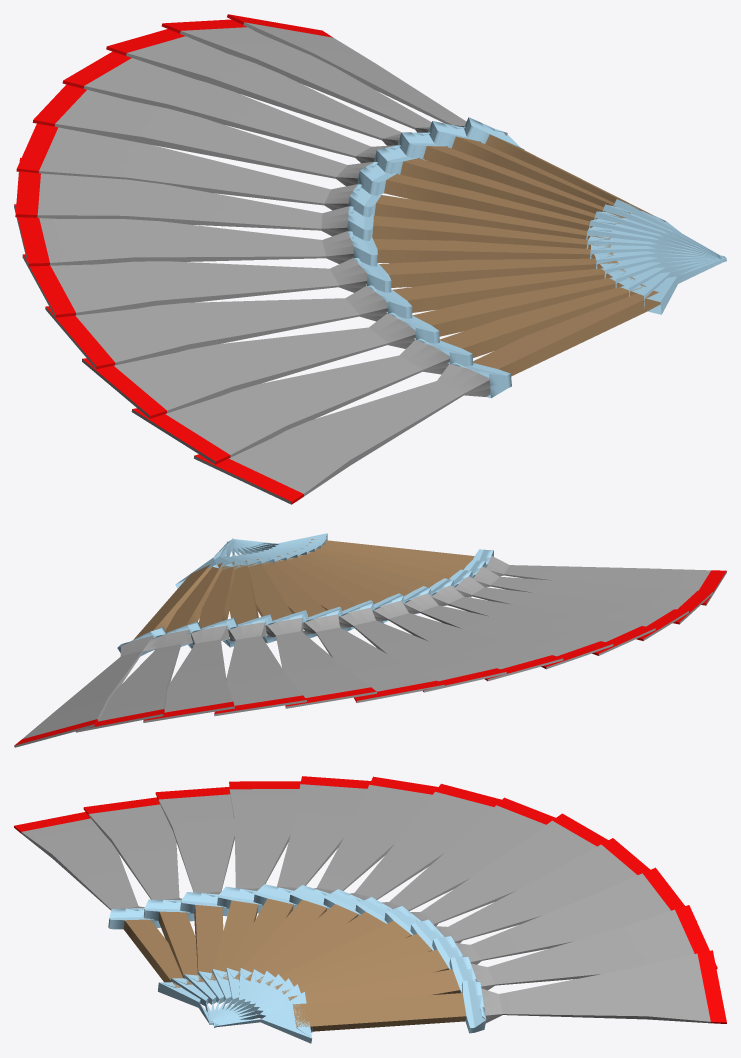
File: LowPolyFan.fbx
The picture shows the model from 3 angles, top to bottom: view 1: azimuth 30°, elevation 25°; view 2: azimuth 150°, elevation 25°; view 3: azimuth 270°, elevation 25°; orthographic projection. The views are drawn at different scales.
Visible parts, largest first — view 1: FanShape; view 2: FanShape; view 3: FanShape.
Boxes of the visible parts, x1,y1,x2,y2 form: FanShape: (14, 14, 726, 504); FanShape: (14, 533, 726, 747); FanShape: (14, 776, 726, 1043).
Bounding box in the file's own units: 9.47 × 1.43 × 12.88.
